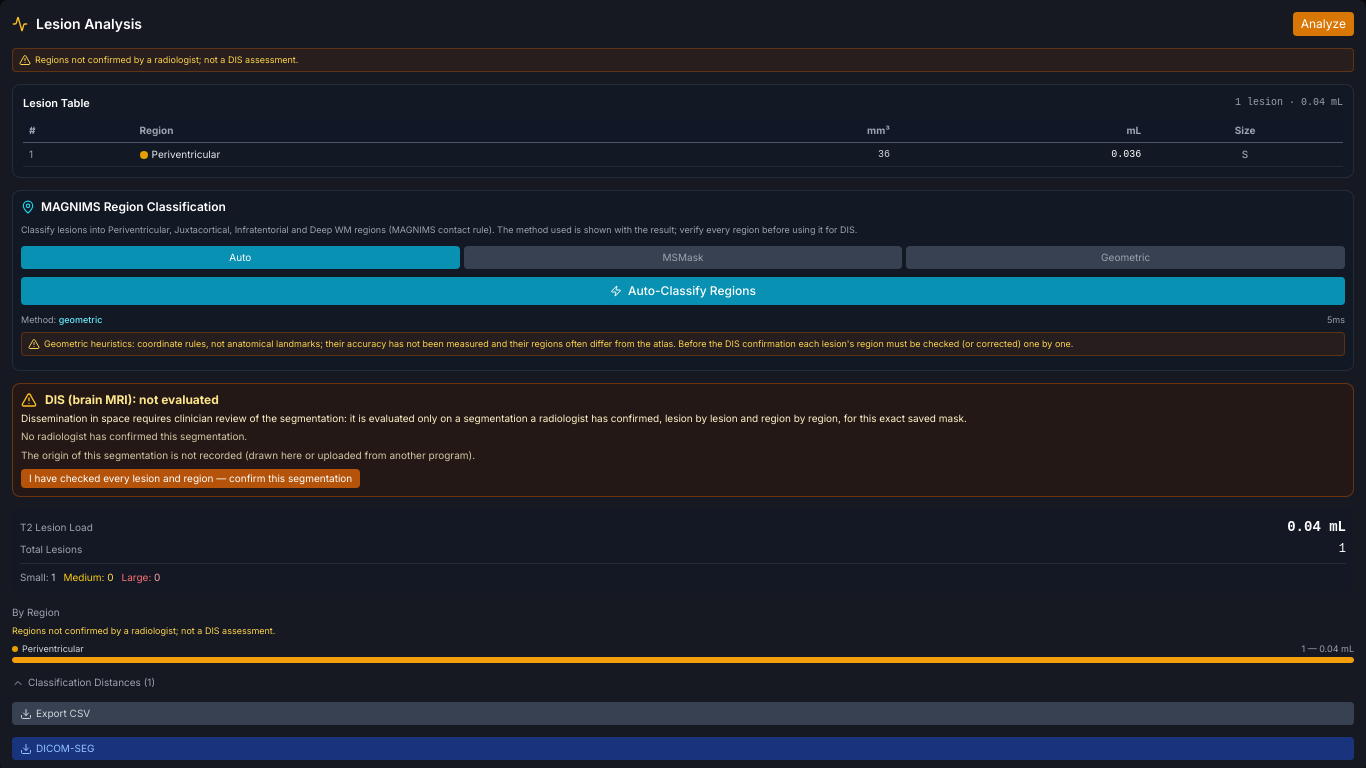
Test case: m5 / m7: the failure paths of the confirmation › rc071 release2 m5 recorded but not read back: no "No radiologist has confirmed", no second confirmation
Step 1. Click the button "confirm this segmentation" → (191, 479), box [21,469,360,488]
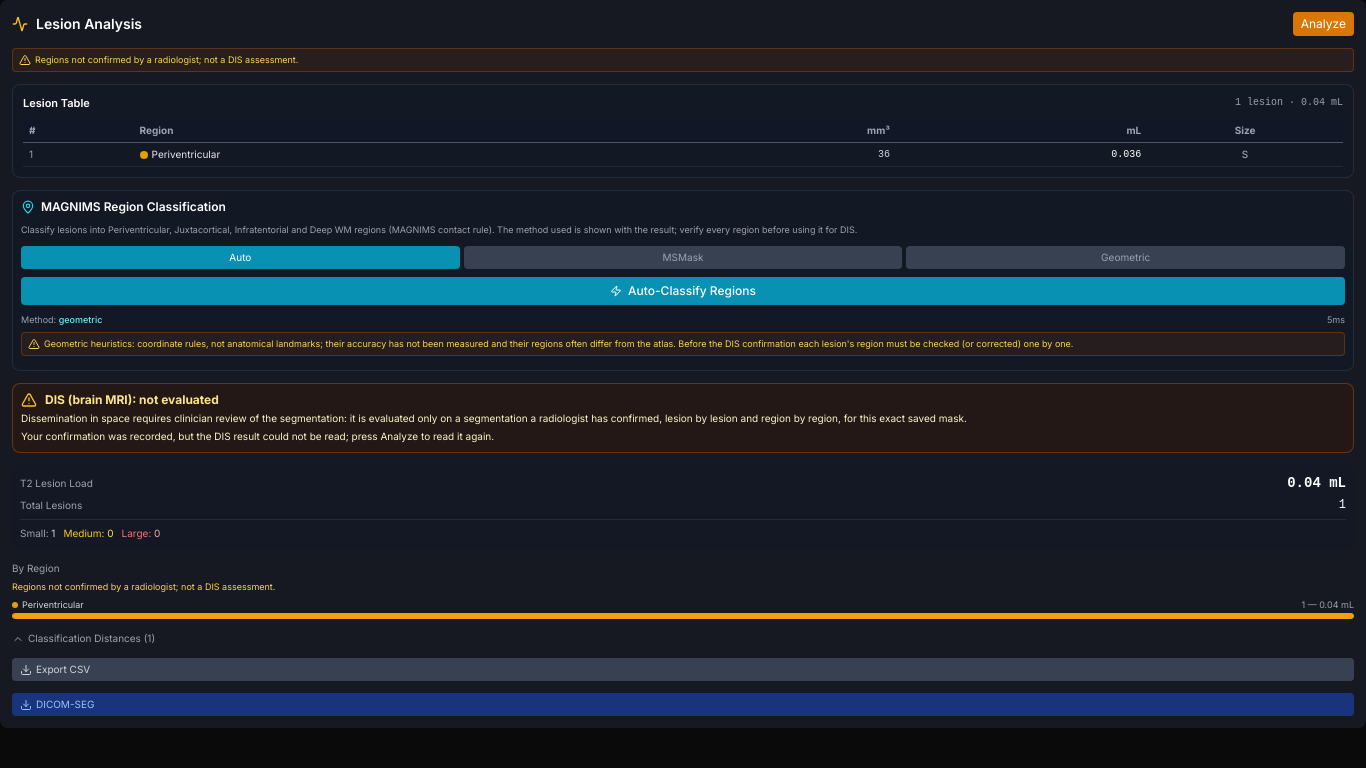
expect the message with test id "dis-confirmed-unread" shows "confirmation was recorded": met, box [21,430,494,442]
expect the text "No radiologist has confirmed this segmentation." is gone: met
expect the button "confirm this segmentation" is gone: met
